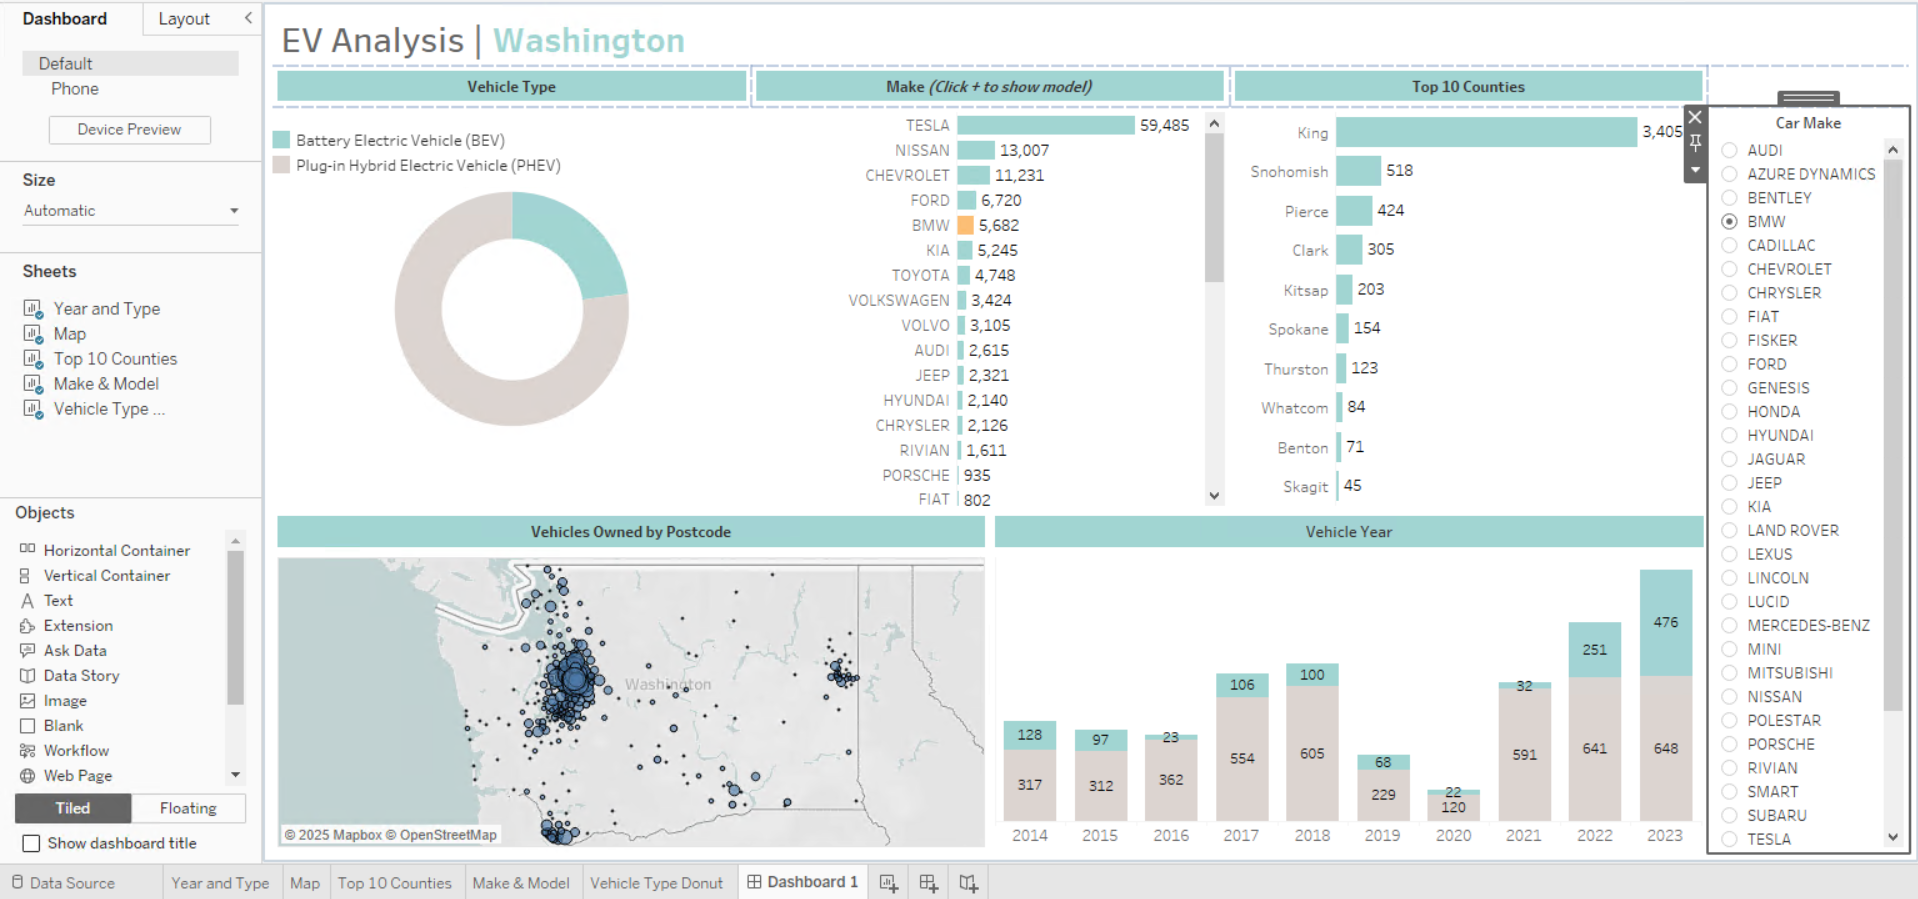

The page's visual inventory and layout, read from the dashboard file:
{"tool":"tableau","page":{"name":"Dashboard 1","canvas":[1000,1000],"units":"permille","ordinal":0},"visuals":[{"type":"text","box":[6.1,11.8,987.9,63.2]},{"type":"text","box":[6.1,75,289.2,47.1]},{"type":"text","box":[295.3,75,288.5,47.1]},{"type":"text","box":[583.9,75,288.5,47.1]},{"type":"parameter","param":"[Parameters].[Parameter 1]","box":[872.4,122,121.5,866.2]},{"type":"worksheet","title":"Vehicle Type Donut","mark":"Pie","rows":["Calculation_710161378831728642","Calculation_710161378831728642"],"box":[6.1,122.1,289.3,469.1]},{"type":"worksheet","title":"Make & Model","mark":"Automatic","rows":["Make"],"cols":["DOL Vehicle ID"],"box":[295.4,122.1,288.5,469.1]},{"type":"worksheet","title":"Top 10 Counties","mark":"Automatic","rows":["County"],"cols":["DOL Vehicle ID"],"box":[583.9,122.1,288.5,469.1]},{"type":"legend","title":"Vehicle Type Donut","param":"[federated.1xrleh30ugqq331etd3oz0wjrfuc].[none:Electric Vehicle Type:nk]","box":[3.8,145.6,181.5,89.7]},{"type":"text","box":[6.1,591.6,433.1,47.4]},{"type":"text","box":[439.1,591.6,433.3,47.4]},{"type":"worksheet","title":"Map","mark":"Automatic","box":[6.1,639,433.1,349.3]},{"type":"worksheet","title":"Year and Type","mark":"Bar","rows":["DOL Vehicle ID"],"cols":["Model Year"],"box":[439.1,639,433.3,349.3]}]}

Visuals, with their boxes on the dashboard's canvas, which has no fixed pixel size, in thousandths of its width and height (x1, y1, x2, y2). These are canvas units, not pixel positions in the 1918x899 screenshot, which may show the page scaled, cropped or inside an application window:
text: [6,12,994,75]
text: [6,75,295,122]
text: [295,75,584,122]
text: [584,75,872,122]
parameter: [872,122,994,988]
"Vehicle Type Donut" worksheet (Pie marks): [6,122,295,591]
"Make & Model" worksheet: [295,122,584,591]
"Top 10 Counties" worksheet: [584,122,872,591]
"Vehicle Type Donut" legend: [4,146,185,235]
text: [6,592,439,639]
text: [439,592,872,639]
"Map" worksheet: [6,639,439,988]
"Year and Type" worksheet (Bar marks): [439,639,872,988]
